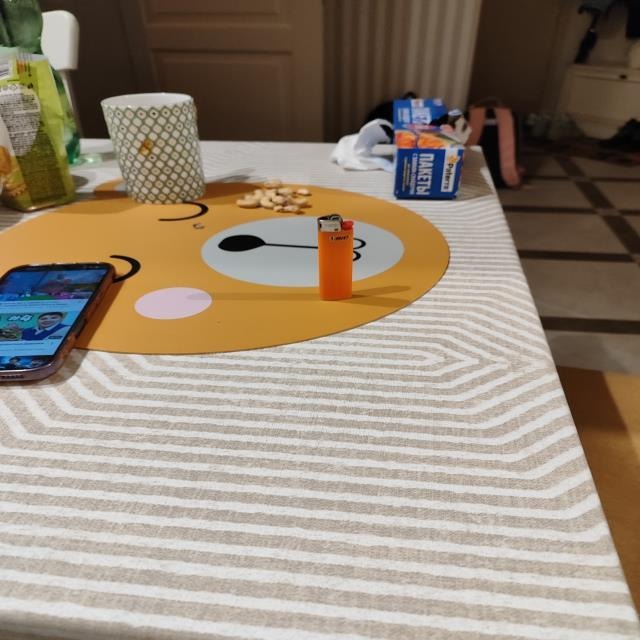lighter: (318, 214, 353, 300)
